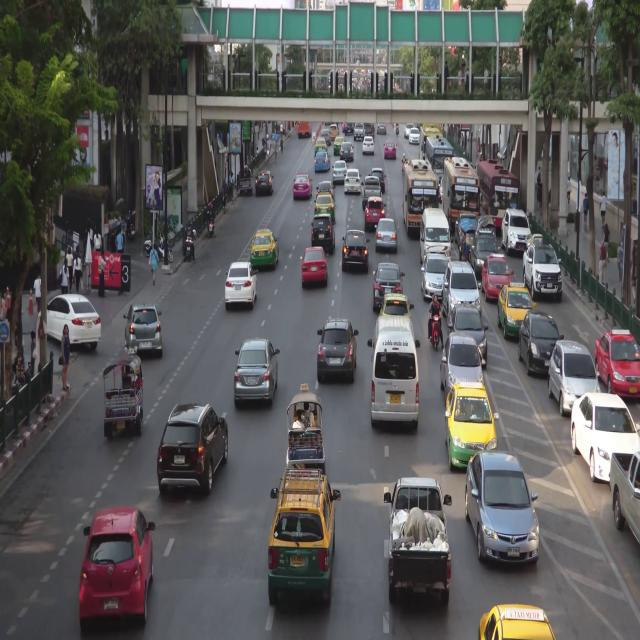bus: (478, 159, 517, 232), (403, 163, 439, 234), (444, 157, 480, 228), (426, 135, 453, 196), (420, 124, 442, 173)
car: (467, 454, 540, 572), (80, 509, 151, 622), (389, 482, 452, 598), (572, 392, 635, 487), (158, 406, 228, 491), (371, 315, 419, 430), (550, 335, 597, 418), (284, 394, 327, 473), (40, 297, 101, 352), (102, 359, 144, 436), (235, 338, 279, 405), (610, 449, 640, 547), (442, 334, 484, 404), (521, 309, 563, 374), (443, 263, 481, 331), (319, 321, 357, 384), (523, 242, 562, 300), (451, 306, 486, 370), (124, 301, 163, 358), (422, 209, 452, 266), (372, 260, 406, 308), (422, 253, 454, 298), (225, 262, 257, 306), (503, 208, 529, 256), (343, 229, 369, 271), (471, 230, 496, 272), (302, 247, 328, 287), (311, 215, 336, 254), (376, 216, 398, 253), (454, 215, 478, 247), (364, 196, 387, 226), (460, 221, 476, 263), (479, 214, 497, 246), (363, 175, 382, 205), (370, 165, 386, 194), (255, 171, 274, 195), (343, 169, 361, 193), (239, 166, 252, 195), (319, 179, 334, 200), (339, 142, 354, 162), (333, 160, 346, 181), (363, 136, 373, 157), (354, 123, 365, 140), (320, 129, 332, 144), (404, 123, 414, 139), (409, 129, 419, 144), (329, 123, 338, 139), (345, 120, 354, 135), (439, 175, 444, 200), (377, 124, 387, 135)
pedestrian: (59, 323, 71, 392), (97, 249, 106, 298), (149, 244, 158, 286), (28, 329, 37, 371), (34, 274, 42, 314), (599, 238, 605, 289), (67, 245, 74, 288), (601, 188, 608, 230), (74, 254, 81, 292), (603, 221, 609, 264), (616, 241, 622, 283), (632, 256, 637, 304), (61, 261, 68, 294), (583, 192, 589, 228), (117, 227, 123, 255), (94, 229, 101, 253), (111, 229, 117, 256), (222, 180, 227, 211), (567, 175, 572, 206), (229, 172, 234, 199), (274, 143, 278, 164), (280, 132, 284, 153), (537, 165, 541, 185), (255, 144, 259, 162), (263, 138, 266, 158), (268, 137, 270, 155), (270, 136, 272, 152)
taxi: (271, 473, 335, 601), (446, 386, 498, 469), (596, 328, 640, 401), (479, 602, 557, 640), (498, 286, 534, 340), (379, 293, 412, 334), (482, 254, 511, 300), (252, 230, 278, 271), (314, 192, 335, 222), (293, 173, 312, 197), (316, 151, 331, 172), (385, 139, 398, 159), (314, 138, 327, 157), (334, 137, 344, 155)
